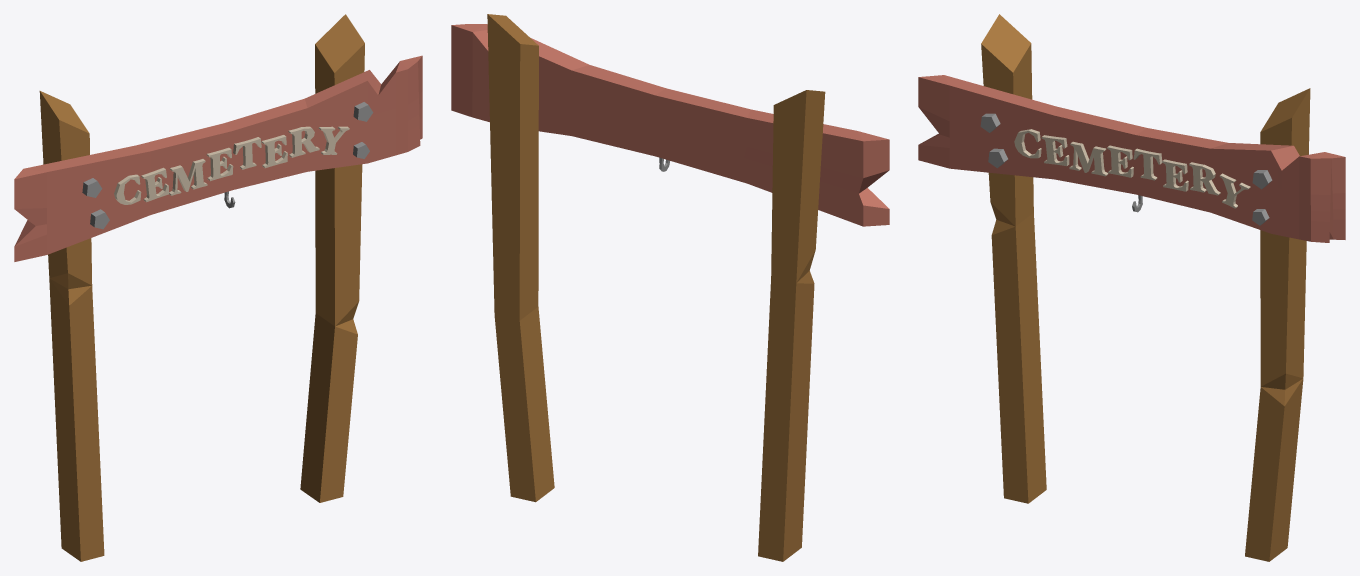
Rendered from Gate_Cemetery.fbx.
The picture shows the model from 3 angles, left to right: view 1: azimuth 30°, elevation 25°; view 2: azimuth 150°, elevation 25°; view 3: azimuth 330°, elevation 25°; orthographic projection. The views are drawn at different scales.
Visible parts, largest first — view 1: Gate_Cemetery; view 2: Gate_Cemetery; view 3: Gate_Cemetery.
Boxes of the visible parts, x1,y1,x2,y2 form: Gate_Cemetery: (14,14,422,561); Gate_Cemetery: (451,14,889,561); Gate_Cemetery: (918,14,1345,561).
Size of the model in its own units: 468 by 67.93 by 497.
